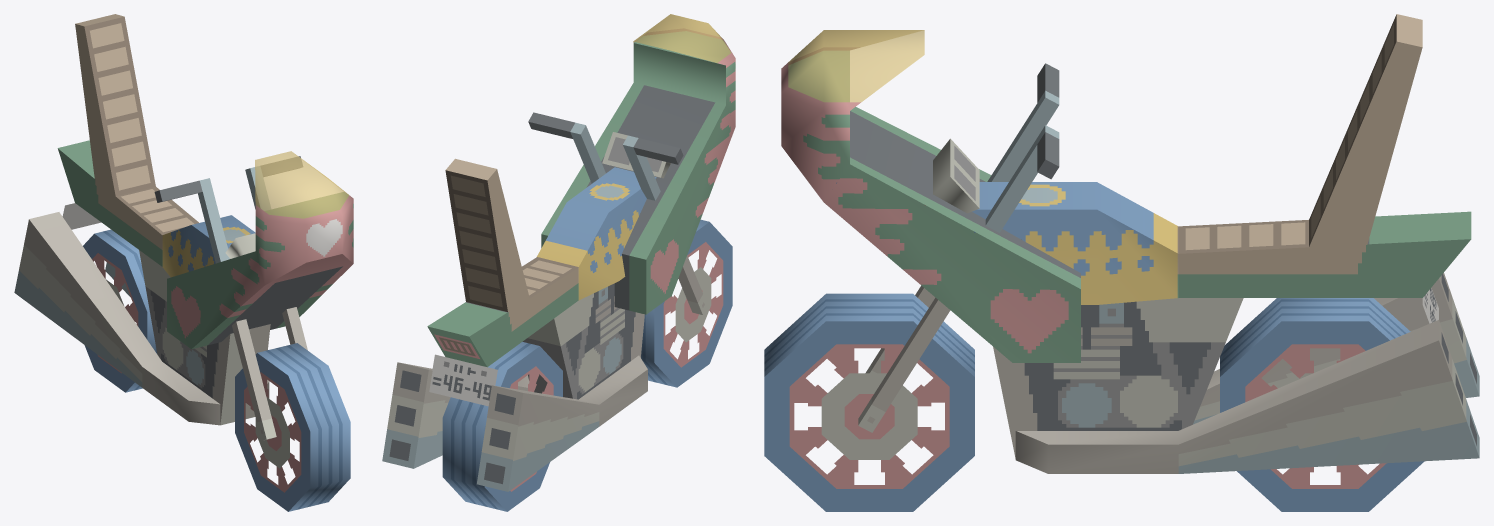
Rendered from 01b2_Chopper_1.glb.
The picture shows the model from 3 angles, left to right: view 1: azimuth 30°, elevation 25°; view 2: azimuth 150°, elevation 25°; view 3: azimuth 270°, elevation 25°; orthographic projection. The views are drawn at different scales.
Parts seen in each view (by area): view 1: part_0, part_1, part_2; view 2: part_0, part_2, part_1; view 3: part_0, part_1, part_2.
Part boxes in pixels (box(x1,y1,x2,y2)): part_0: box(14, 14, 353, 440); part_1: box(235, 343, 350, 511); part_2: box(83, 229, 157, 392); part_0: box(382, 14, 735, 491); part_2: box(442, 342, 562, 511); part_1: box(641, 219, 732, 387); part_0: box(781, 14, 1479, 473); part_1: box(764, 293, 974, 511); part_2: box(1220, 298, 1424, 511).
Size of the model in its own units: 0.56 by 1.28 by 1.76.
3 materials, 3 textured.
